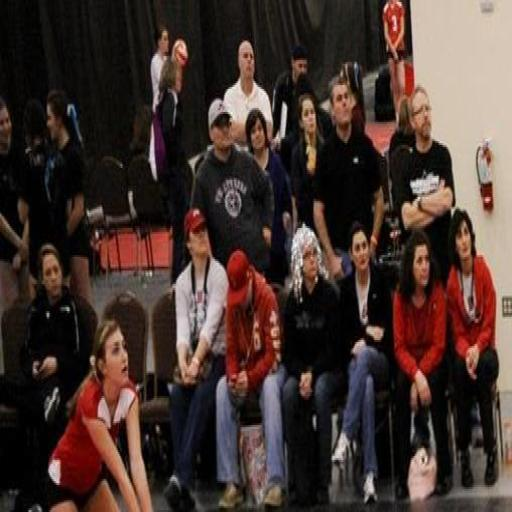person: (0, 244, 88, 504), (48, 321, 152, 511), (165, 209, 227, 511), (216, 250, 285, 510), (283, 227, 344, 506), (333, 223, 393, 502), (394, 230, 452, 498), (447, 209, 498, 486), (192, 99, 273, 272), (314, 76, 383, 278), (394, 86, 454, 284), (19, 101, 69, 295), (46, 91, 91, 303), (246, 109, 292, 284), (159, 58, 190, 282), (0, 97, 28, 309), (224, 41, 273, 146), (292, 93, 323, 231), (273, 45, 307, 162), (382, 0, 405, 112), (340, 62, 365, 133), (389, 97, 415, 156), (151, 26, 169, 110), (127, 105, 152, 165)
